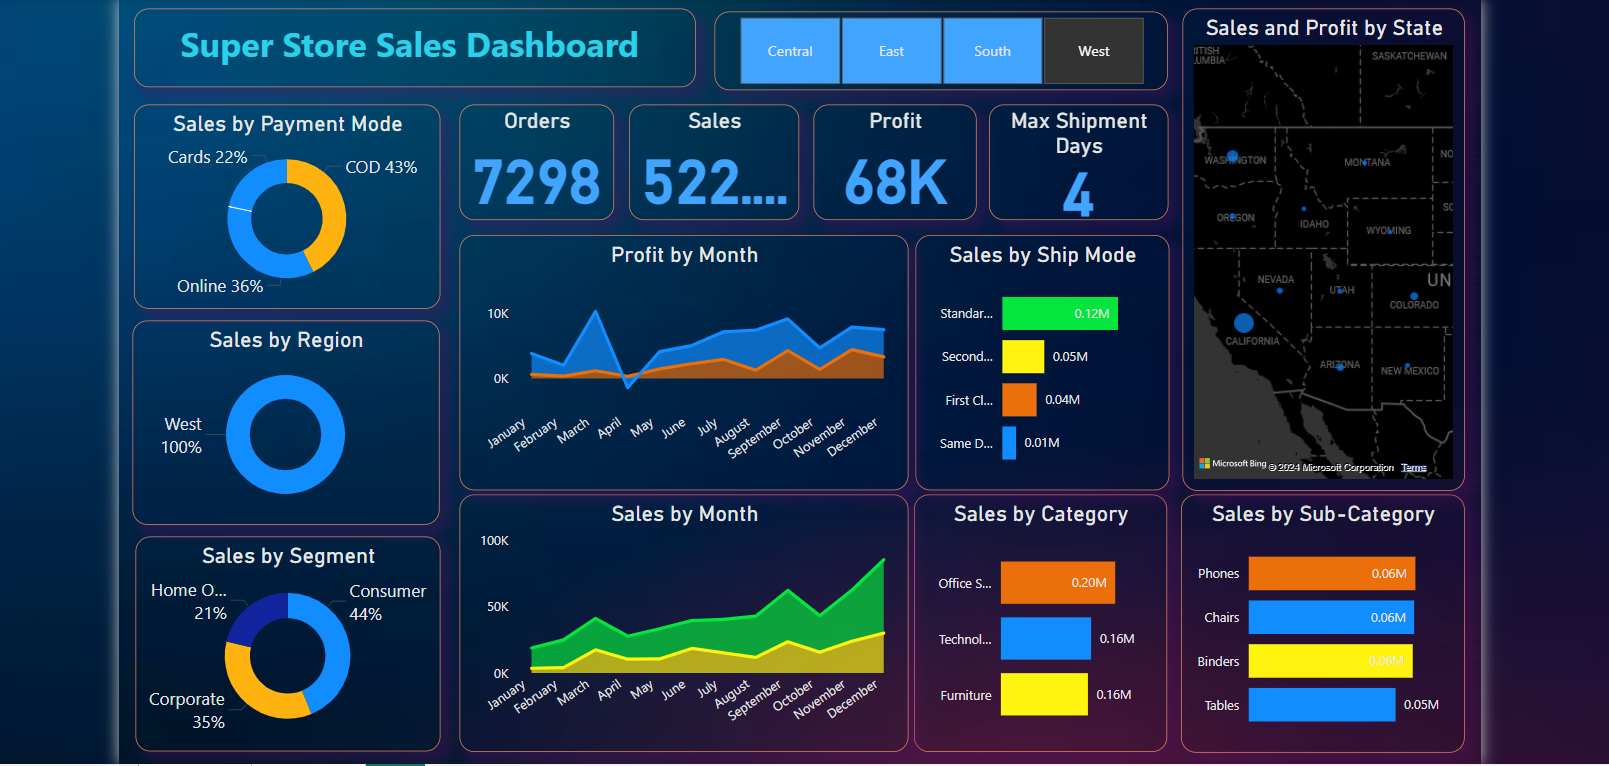

Layout of this report page (visuals, bound fields, positions):
{"tool":"powerbi","page":{"name":"Page 1","canvas":[1280,720],"ordinal":0},"visuals":[{"type":"clusteredBarChart","title":"Sales by Category","fields":{"Category":["SuperStore_Sales_Dataset.Category"],"Y":["Sum(SuperStore_Sales_Dataset.Sales)"]},"box":[747.8,466.7,237.8,242.2],"z":0},{"type":"clusteredBarChart","title":"Sales by  Sub-Category","fields":{"Y":["Sum(SuperStore_Sales_Dataset.Sales)"],"Category":["SuperStore_Sales_Dataset.Sub-Category"]},"box":[1000,466.7,265.6,242.2],"z":1000},{"type":"clusteredBarChart","title":"Sales by  Ship Mode","fields":{"Y":["Sum(SuperStore_Sales_Dataset.Sales)"],"Category":["SuperStore_Sales_Dataset.Ship Mode"]},"box":[748.3,223.3,238.3,240],"z":2000},{"type":"stackedAreaChart","title":"Sales by Month","fields":{"Category":["SuperStore_Sales_Dataset.Order Date.Variation.Date Hierarchy.Month","SuperStore_Sales_Dataset.Order Date.Variation.Date Hierarchy.Day"],"Y":["Sum(SuperStore_Sales_Dataset.Sales)"],"Series":["SuperStore_Sales_Dataset.Order Date.Variation.Date Hierarchy.Year"]},"box":[320,466.7,422.2,242.2],"z":3000},{"type":"stackedAreaChart","title":"Profit by Month","fields":{"Category":["SuperStore_Sales_Dataset.Order Date.Variation.Date Hierarchy.Month","SuperStore_Sales_Dataset.Order Date.Variation.Date Hierarchy.Day"],"Series":["SuperStore_Sales_Dataset.Order Date.Variation.Date Hierarchy.Year"],"Y":["Sum(SuperStore_Sales_Dataset.Profit)"]},"box":[320,223.3,422.2,240],"z":4000},{"type":"map","title":"Sales and Profit by State","fields":{"Category":["SuperStore_Sales_Dataset.State"],"Size":["Sum(SuperStore_Sales_Dataset.Sales)"]},"box":[1000,10,265.6,453.3],"z":5000},{"type":"donutChart","title":"Sales by Payment Mode","fields":{"Y":["Sum(SuperStore_Sales_Dataset.Sales)"],"Category":["SuperStore_Sales_Dataset.Payment Mode"]},"box":[14,100,288,192],"z":6000},{"type":"donutChart","title":"Sales by Region","fields":{"Y":["Sum(SuperStore_Sales_Dataset.Sales)"],"Category":["SuperStore_Sales_Dataset.Region"]},"box":[13.3,303.3,288.3,191.7],"z":7000},{"type":"donutChart","title":"Sales by Payment Mode","fields":{"Y":["Sum(SuperStore_Sales_Dataset.Sales)"],"Category":["SuperStore_Sales_Dataset.Segment"]},"box":[15,506.7,286.7,201.7],"z":8000},{"type":"slicer","fields":{"Values":["SuperStore_Sales_Dataset.Region"]},"box":[560,12,426,74],"z":9000},{"type":"textbox","box":[14,10,528,74],"z":10000},{"type":"card","title":"Sales","fields":{"Values":["Sum(SuperStore_Sales_Dataset.Sales)"]},"box":[480,100,160,108.3],"z":11000},{"type":"card","title":"Orders","fields":{"Values":["Sum(SuperStore_Sales_Dataset.Quantity)"]},"box":[320,100,145,108.3],"z":12000},{"type":"card","title":"Profit","fields":{"Values":["Sum(SuperStore_Sales_Dataset.Profit)"]},"box":[653.3,100,153.3,108.3],"z":13000},{"type":"card","title":"Max Shipment Days","fields":{"Values":["Avg(SuperStore_Sales_Dataset.AvgDelivery)"]},"box":[818.3,100,168.3,108.3],"z":14000}]}

Visuals, with their boxes on the page's 1280x720 design canvas (x1, y1, x2, y2). These are canvas units, not pixel positions in the 1609x766 screenshot, which may show the page scaled, cropped or inside an application window:
"Sales by Category" clusteredBarChart: Rect(748, 467, 986, 709)
"Sales by  Sub-Category" clusteredBarChart: Rect(1000, 467, 1266, 709)
"Sales by  Ship Mode" clusteredBarChart: Rect(748, 223, 987, 463)
"Sales by Month" stackedAreaChart: Rect(320, 467, 742, 709)
"Profit by Month" stackedAreaChart: Rect(320, 223, 742, 463)
"Sales and Profit by State" map: Rect(1000, 10, 1266, 463)
"Sales by Payment Mode" donutChart: Rect(14, 100, 302, 292)
"Sales by Region" donutChart: Rect(13, 303, 302, 495)
"Sales by Payment Mode" donutChart: Rect(15, 507, 302, 708)
slicer - SuperStore_Sales_Dataset.Region: Rect(560, 12, 986, 86)
textbox: Rect(14, 10, 542, 84)
"Sales" card: Rect(480, 100, 640, 208)
"Orders" card: Rect(320, 100, 465, 208)
"Profit" card: Rect(653, 100, 807, 208)
"Max Shipment Days" card: Rect(818, 100, 987, 208)
